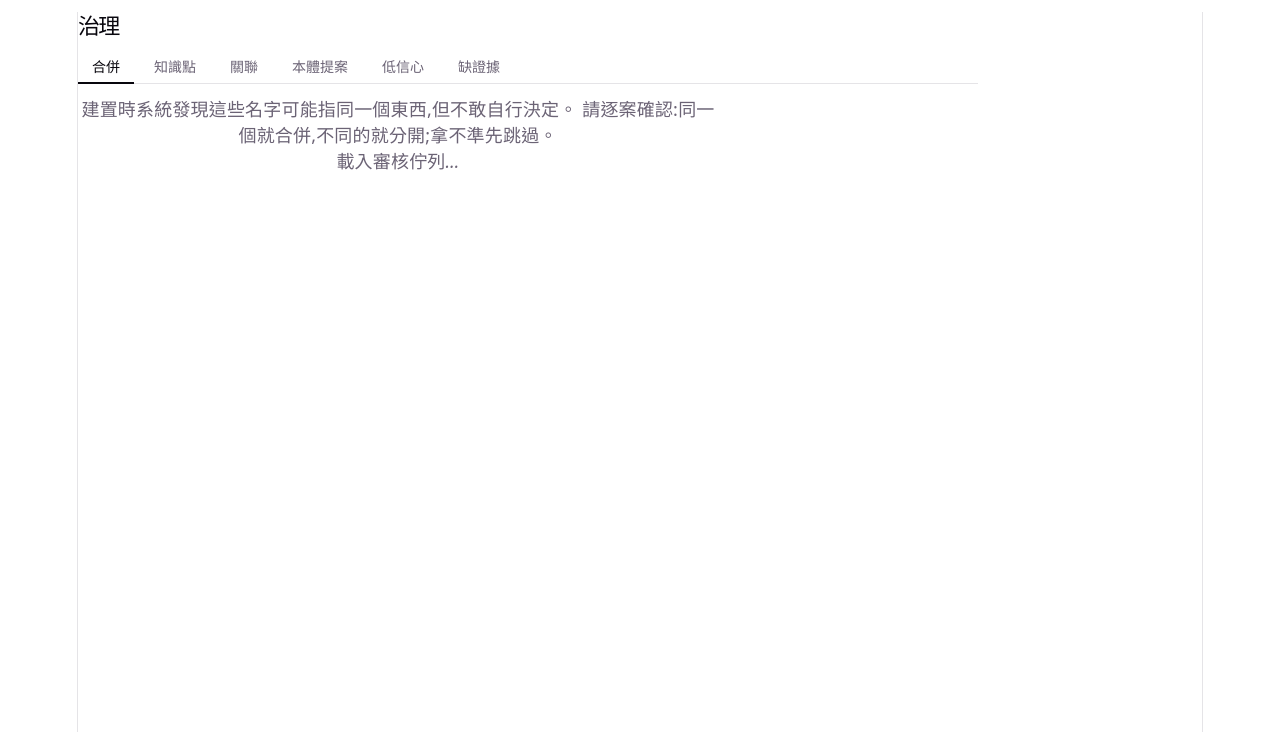
Test: ReviewQueue › the 低信心 tab fetches ACTIVE relations with its facet — BOTH filter halves (GOV2-fe-5)
The image size is (1280, 732).
Click the tab "低信心".
click(403, 67)  # box [368,50,438,84]
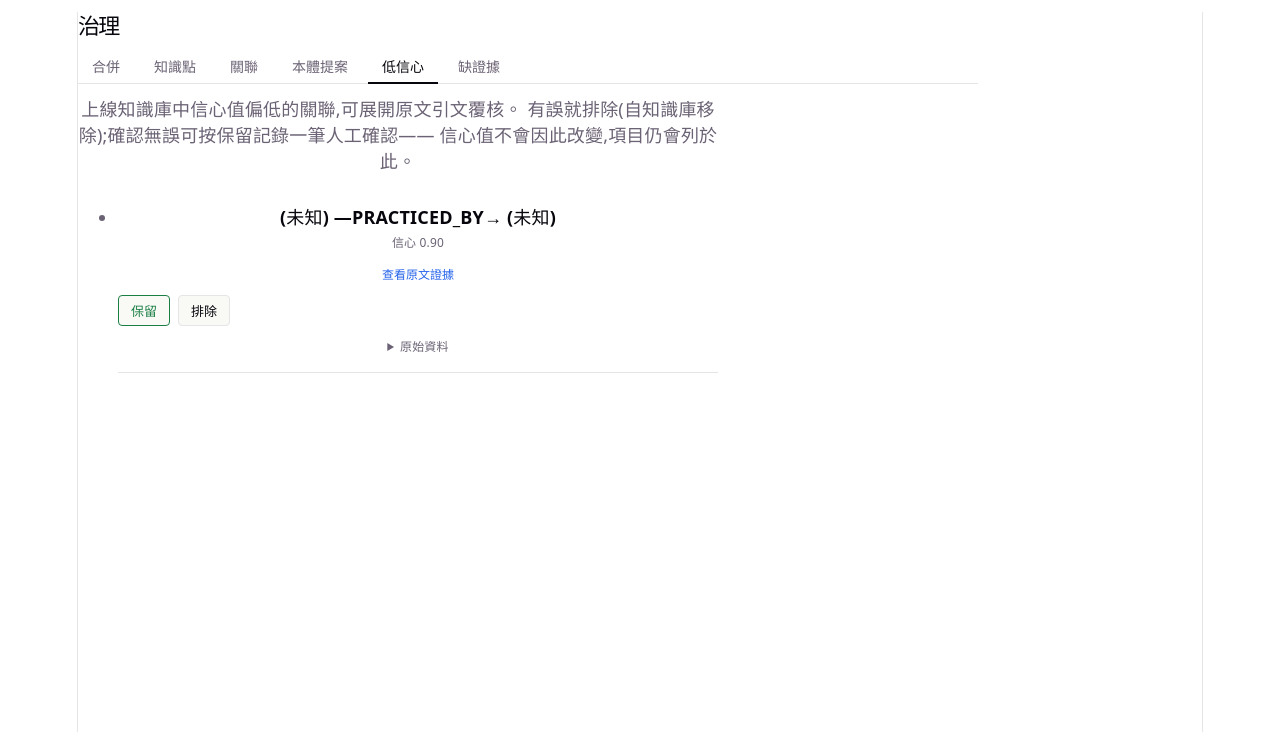
Now the text "(未知) —PRACTICED_BY→ (未知)" is shown, box [280,205,556,229]
